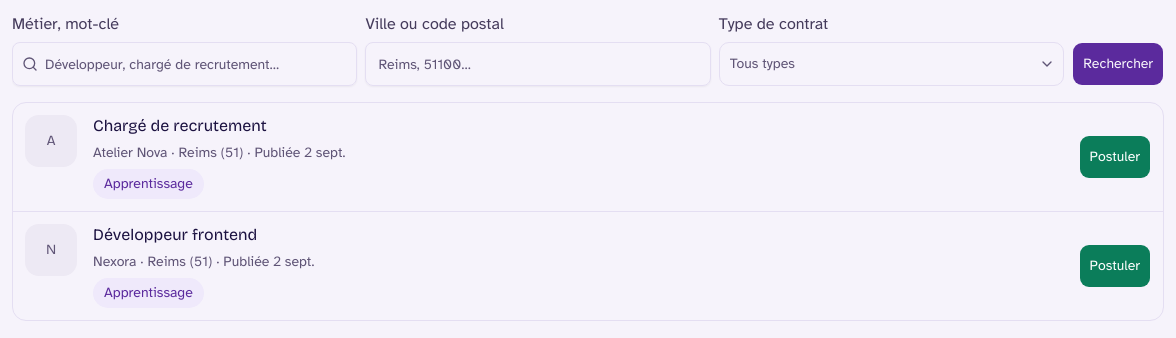
Scenario: OfferSearch › filters by keyword across title and company, case-insensitively
Type "développeur" into the field labelled "Métier, mot-clé" at (185, 64), box [12,42,357,86]
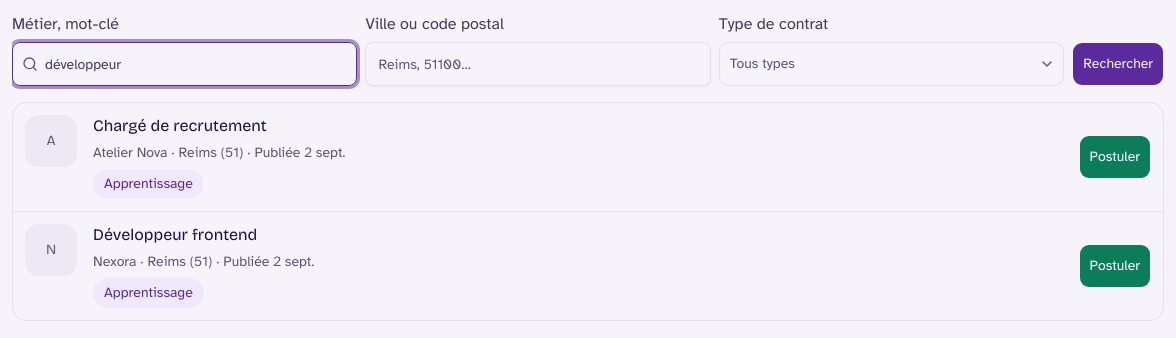
Click the button "Rechercher" at (1118, 64), box [1072,42,1164,86]
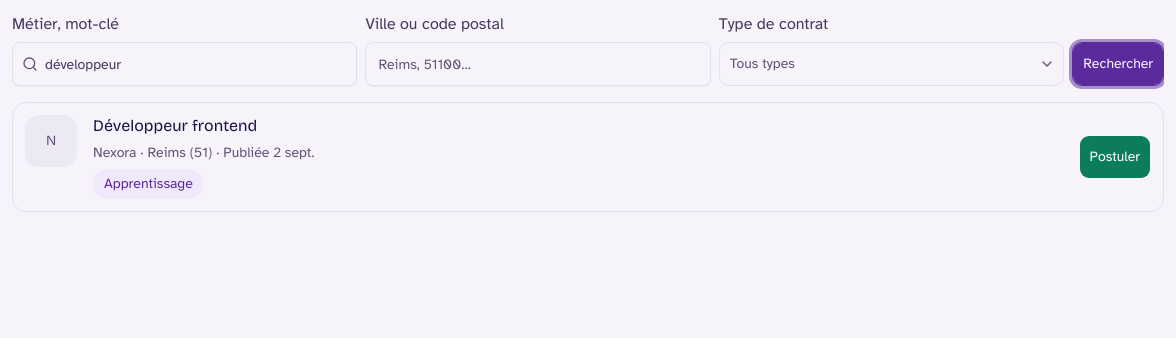
Check: the text "Développeur frontend" is shown, box [93,116,257,135]
Check: the text "Chargé de recrutement" is gone
